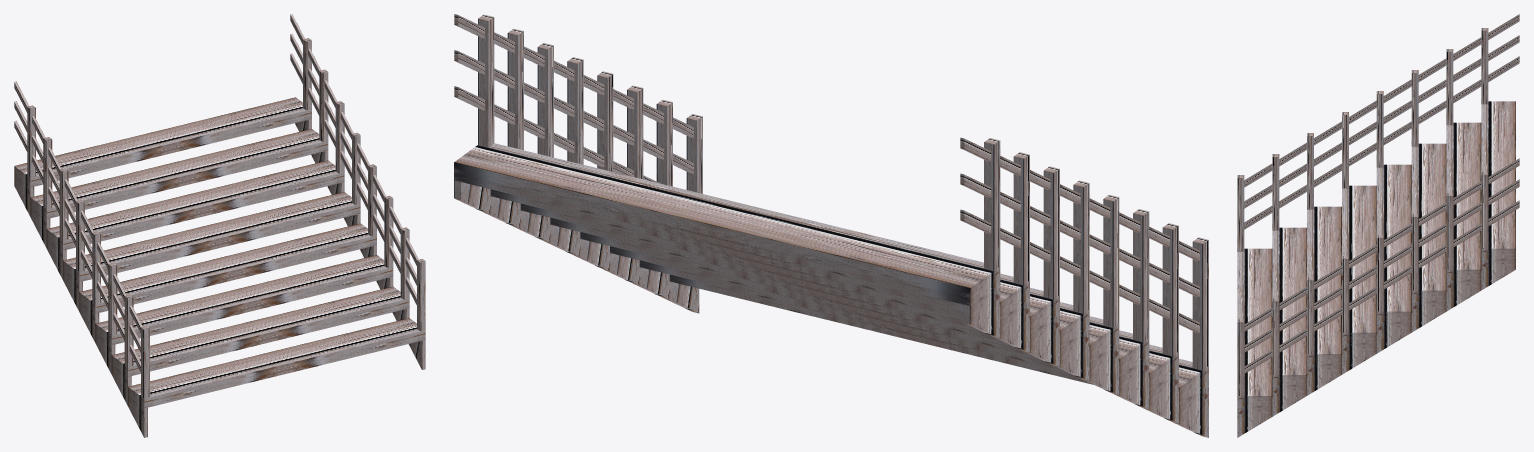
3 views of the same model, side by side, from view 1: azimuth 30°, elevation 25°; view 2: azimuth 150°, elevation 25°; view 3: azimuth 270°, elevation 25° (orthographic). The views are drawn at different scales.
Parts seen in each view (by area): view 1: esc_r010_woodboard_0; view 2: esc_r010_woodboard_0; view 3: esc_r010_woodboard_0.
Part boxes in pixels (x1,y1,x2,y2): esc_r010_woodboard_0: (14, 14, 425, 437); esc_r010_woodboard_0: (454, 14, 1208, 437); esc_r010_woodboard_0: (1237, 14, 1519, 437).
Size of the model in its own units: 3 by 2.64 by 2.43.
Materials: 1 (1 with a texture image).
